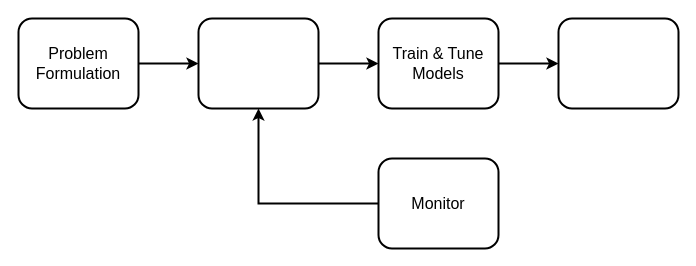
Some shapes in this 696 by 266 pixel diagram are drawn without their labels. Each missing label, with the centre of its shape:
"Collect & Preprocess Data" goes at (x=258, y=63).
"Depoly Models" goes at (x=618, y=63).
